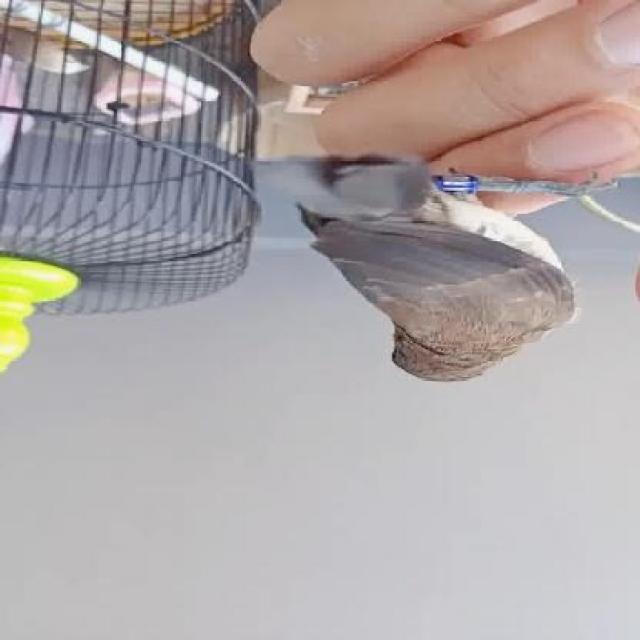Bird: (290, 179, 581, 387)
